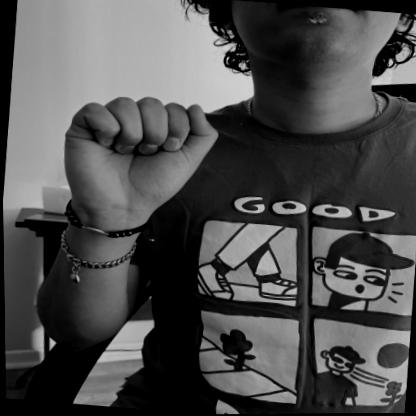A: (56, 86, 221, 221)
